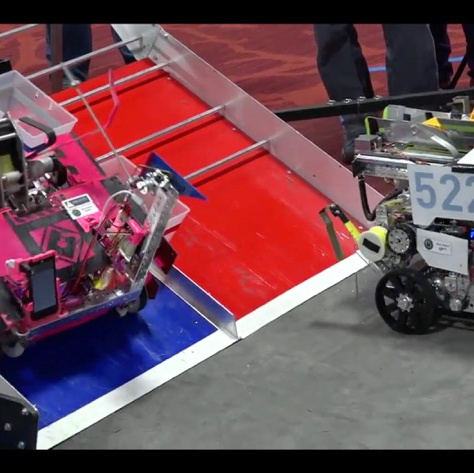robot: (0, 72, 209, 363), (315, 92, 474, 342)
